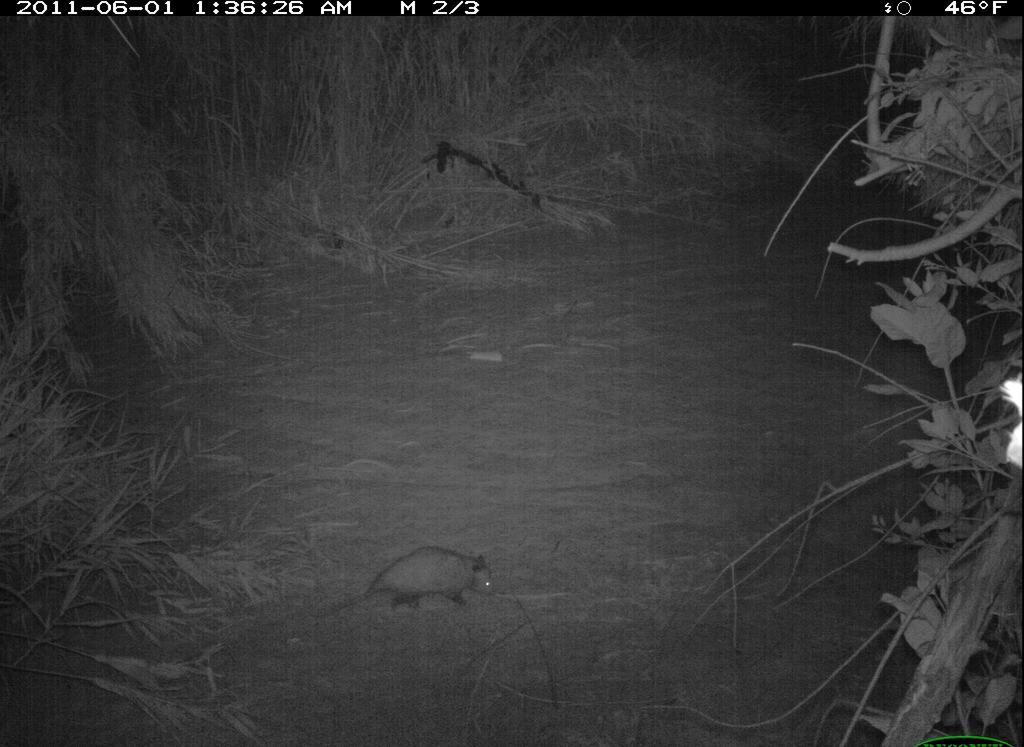opossum: (335, 542, 510, 624)
